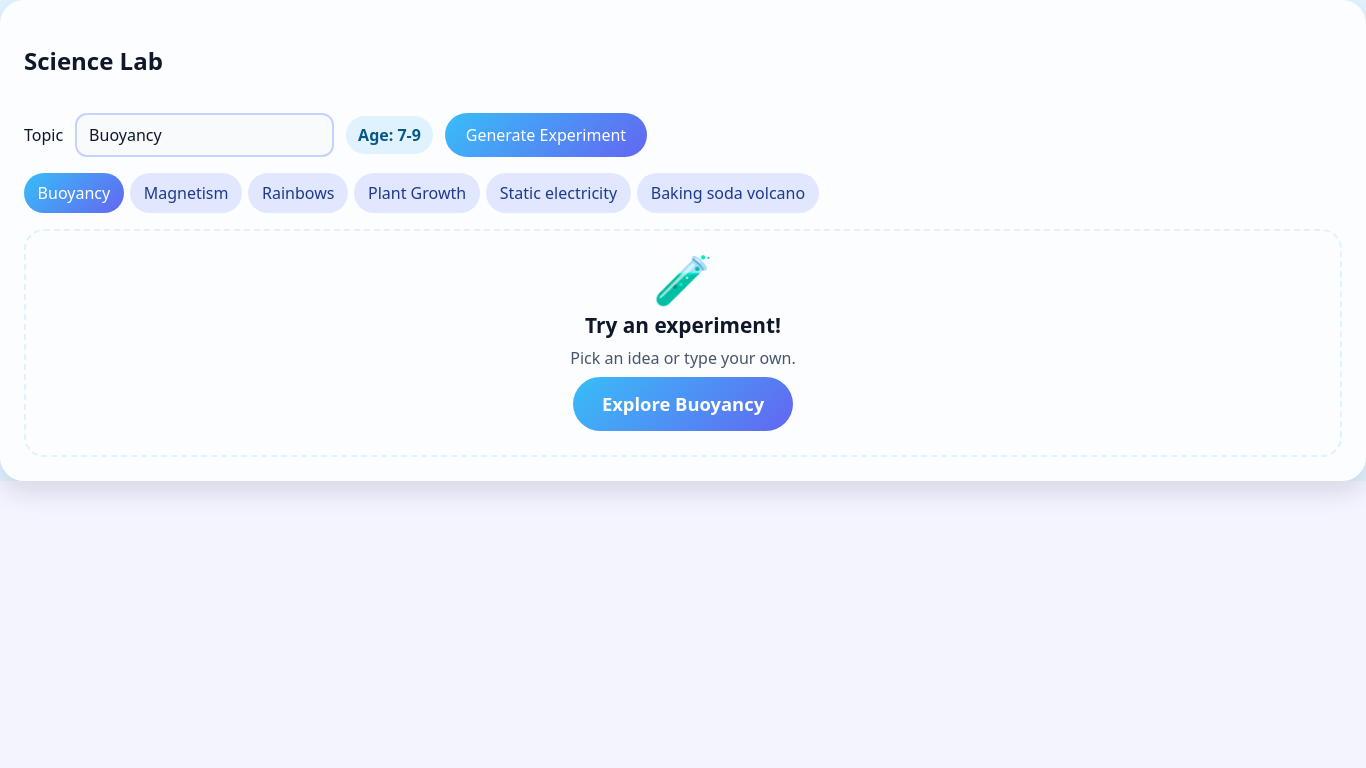
it: ScienceLab free topics, supervision, and observations › refuses a topic that is too short
Step 1. Replace the text in the field labelled "Topic" with "ab" → (205,135), box [75, 113, 334, 157]
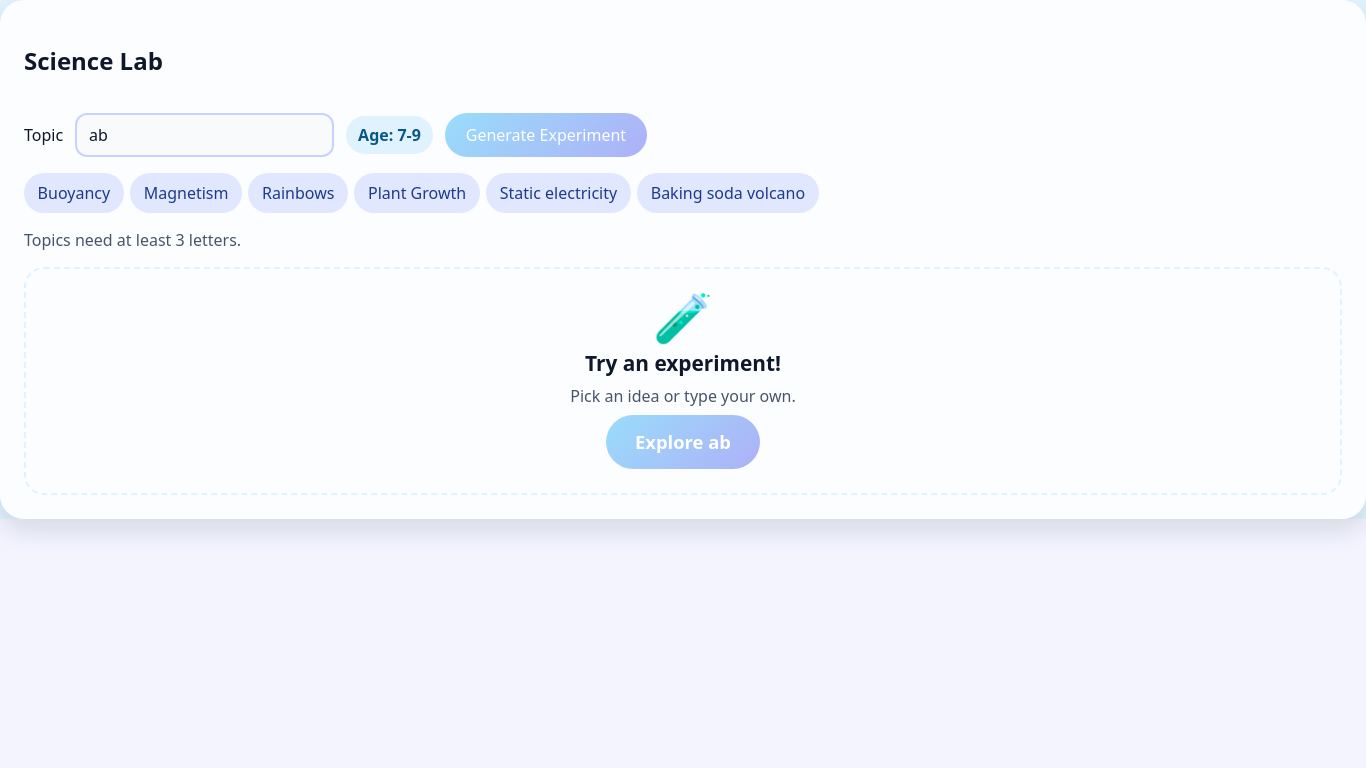
Now the button "Generate Experiment" is disabled, box [445, 113, 647, 157]
Now the text "Topics need at least 3 letters." is shown, box [24, 229, 241, 251]
